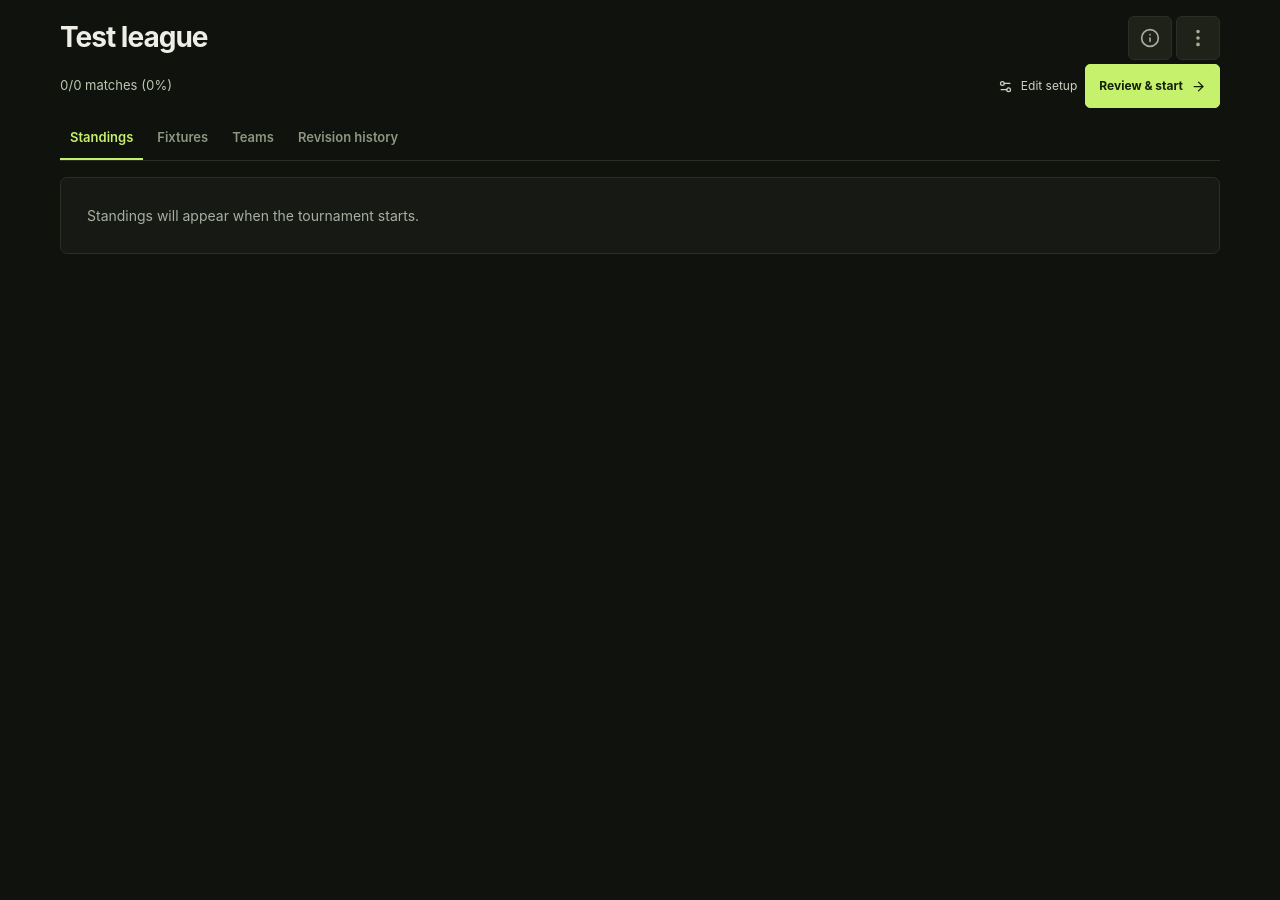
a failed start retains the fixture dialog and shows a persistent error
This screenshot has width=1280, height=900.
Click the button "Review & start" at (1153, 86), box x1=1085 y1=64 x2=1220 y2=108
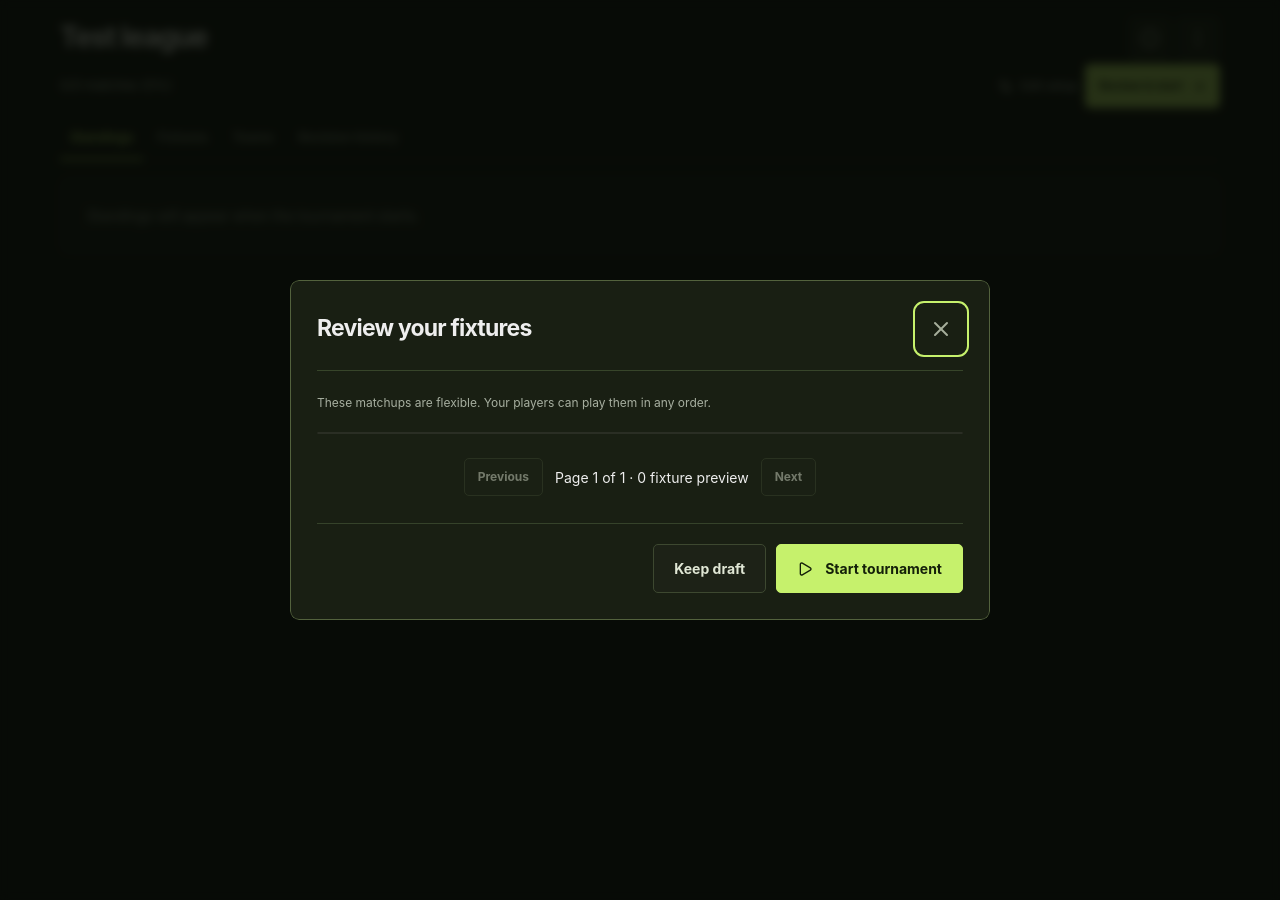
Click the button "Start tournament" at (870, 569), box x1=776 y1=544 x2=963 y2=593
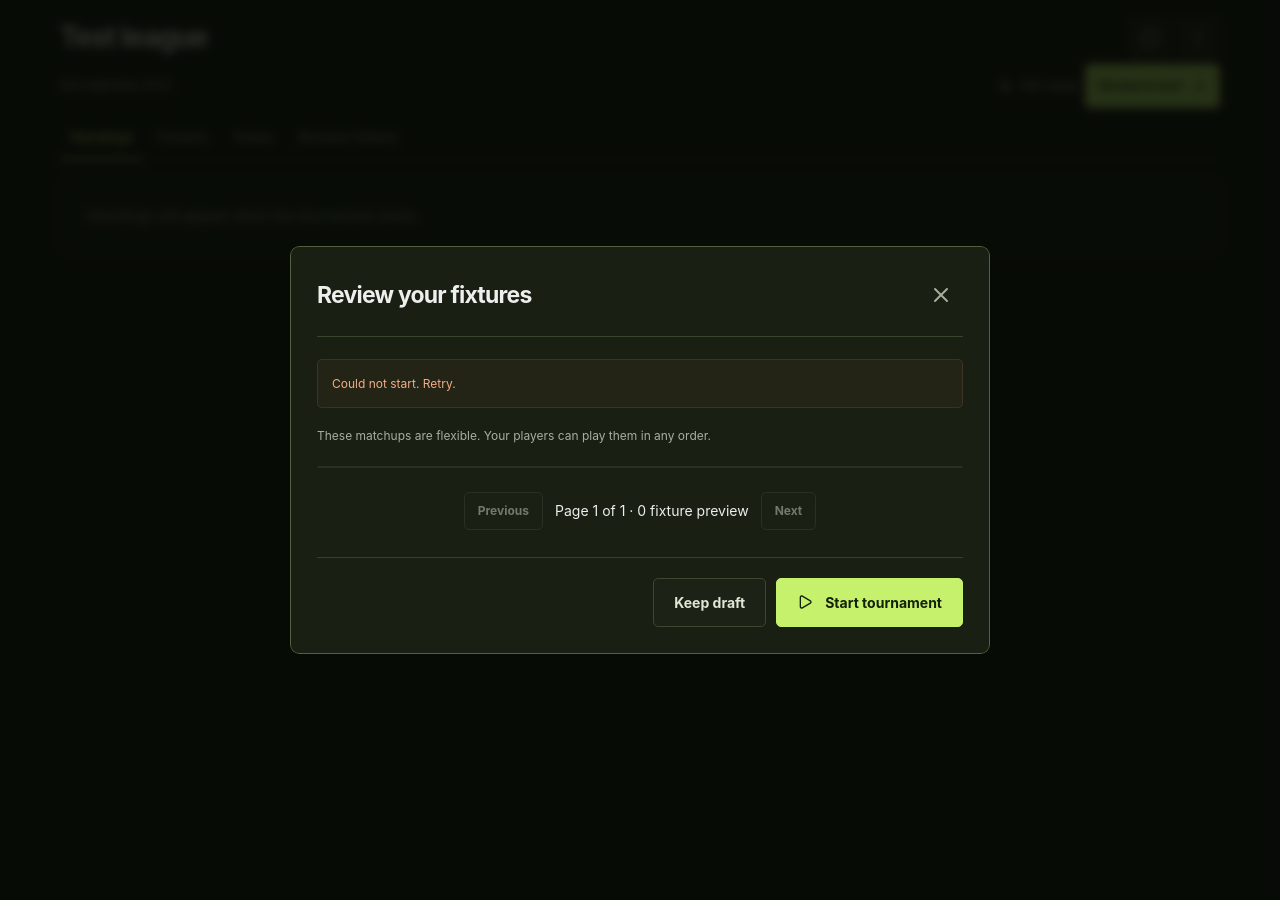
Expected: the dialog "Review your fixtures" is shown, x1=290 y1=246 x2=990 y2=654
Expected: the message "Could not start. Retry." is shown, x1=317 y1=359 x2=963 y2=408
